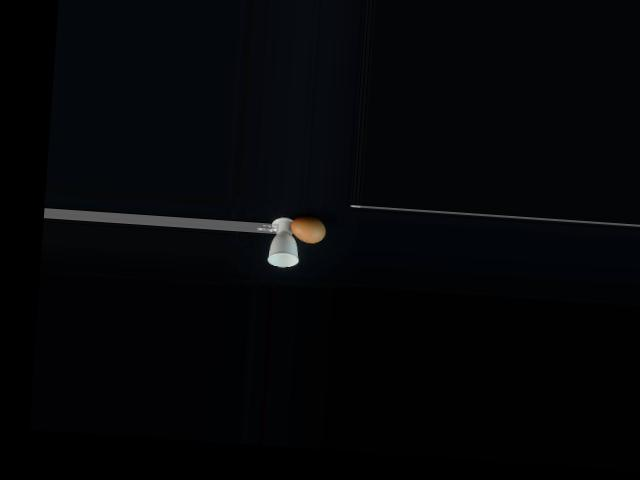egg: (289, 216, 325, 244)
